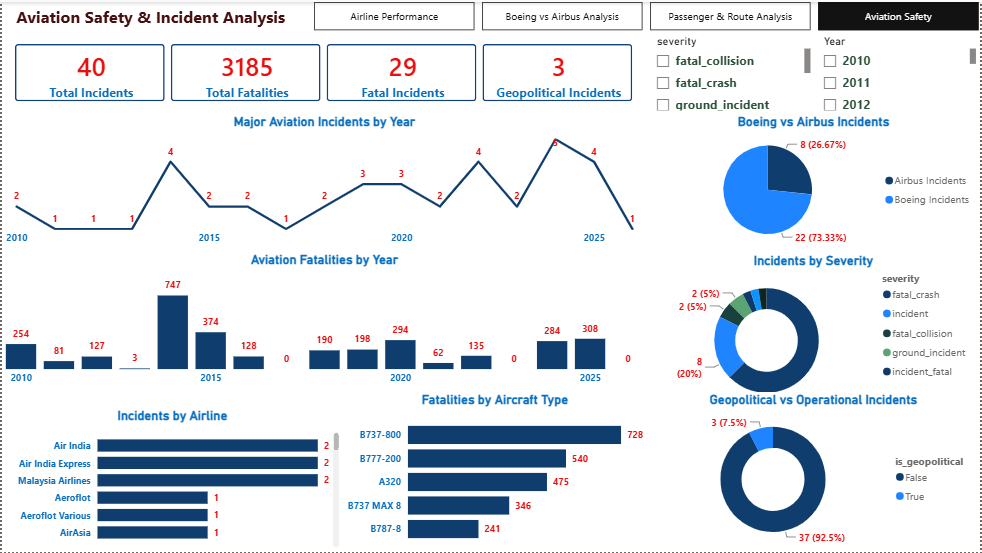

Layout of this report page (visuals, bound fields, positions):
{"tool":"powerbi","page":{"name":"Aviation Safety","canvas":[1280,720],"ordinal":4},"visuals":[{"type":"textbox","box":[0,0,389.2,37.9],"z":0,"group":"g1"},{"type":"group","id":"g1","title":"Group 1","box":[0,0,1280,720.2],"z":12},{"type":"pageNavigator","box":[408.2,0,871.8,37.9],"z":1000,"group":"g1"},{"type":"cardVisual","fields":{"Data":["Measure Table.Total Incidents","Measure Table.Total Fatalities","Measure Table.Fatal Incidents","Measure Table.Geopolitical Incidents"]},"box":[0,37.9,844.1,109.3],"z":2000,"group":"g1"},{"type":"lineChart","title":"Major Aviation Incidents by Year","fields":{"Category":["Date.Year"],"Y":["Measure Table.Total Incidents"]},"box":[0,146.6,844.4,180.7],"z":3000,"group":"g1"},{"type":"columnChart","title":"Aviation Fatalities by Year","fields":{"Y":["Measure Table.Total Fatalities"],"Category":["Date.Year"]},"box":[0,327.3,844.4,183.3],"z":4000,"group":"g1"},{"type":"donutChart","title":"Incidents by Severity","fields":{"Category":["Aviation Incidents.severity"],"Y":["Measure Table.Total Incidents"]},"box":[844.1,328,435.9,209.9],"z":5000,"group":"g1"},{"type":"pieChart","title":"Boeing vs Airbus Incidents","fields":{"Y":["Measure Table.Airbus Incidents","Measure Table.Boeing Incidents"]},"box":[844.1,147.2,435.9,179.3],"z":6000,"group":"g1"},{"type":"barChart","title":"Incidents by Airline","fields":{"Category":["Aviation Incidents.airline"],"Y":["Measure Table.Total Incidents"]},"box":[0,531.5,446.4,187.2],"z":7000,"group":"g1"},{"type":"barChart","title":"Fatalities by Aircraft Type","fields":{"Y":["Measure Table.Total Fatalities"],"Category":["Aviation Incidents.aircraft_type"]},"box":[446.4,510.5,398,209.5],"z":8000,"group":"g1"},{"type":"donutChart","title":"Geopolitical vs Operational Incidents","fields":{"Category":["Aviation Incidents.is_geopolitical"],"Y":["Measure Table.Total Incidents"]},"box":[844.1,510.3,435.9,209.9],"z":9000,"group":"g1"},{"type":"slicer","fields":{"Values":["Aviation Incidents.severity"]},"box":[844.1,37.9,218.7,109.3],"z":10000,"group":"g1"},{"type":"slicer","fields":{"Values":["Date.Year"]},"box":[1062.8,37.9,217.2,109.3],"z":11000,"group":"g1"}]}

Visuals, with their boxes in screenshot pixels (x1, y1, x2, y2), scaled from the page's 1280x720 canvas onto the 982x553 screenshot:
textbox: BBox(0, 0, 299, 29)
"Group 1" group: BBox(0, 0, 981, 552)
pageNavigator: BBox(313, 0, 981, 29)
cardVisual - Measure Table.Total Incidents x Measure Table.Total Fatalities: BBox(0, 29, 648, 113)
"Major Aviation Incidents by Year" lineChart: BBox(0, 113, 648, 251)
"Aviation Fatalities by Year" columnChart: BBox(0, 251, 648, 392)
"Incidents by Severity" donutChart: BBox(648, 252, 981, 413)
"Boeing vs Airbus Incidents" pieChart: BBox(648, 113, 981, 251)
"Incidents by Airline" barChart: BBox(0, 408, 342, 552)
"Fatalities by Aircraft Type" barChart: BBox(342, 392, 648, 552)
"Geopolitical vs Operational Incidents" donutChart: BBox(648, 392, 981, 552)
slicer - Aviation Incidents.severity: BBox(648, 29, 815, 113)
slicer - Date.Year: BBox(815, 29, 981, 113)
